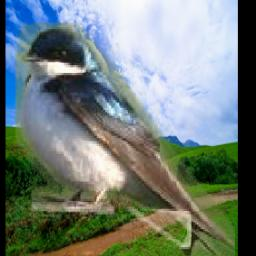Swallow: (15, 22, 235, 256)
